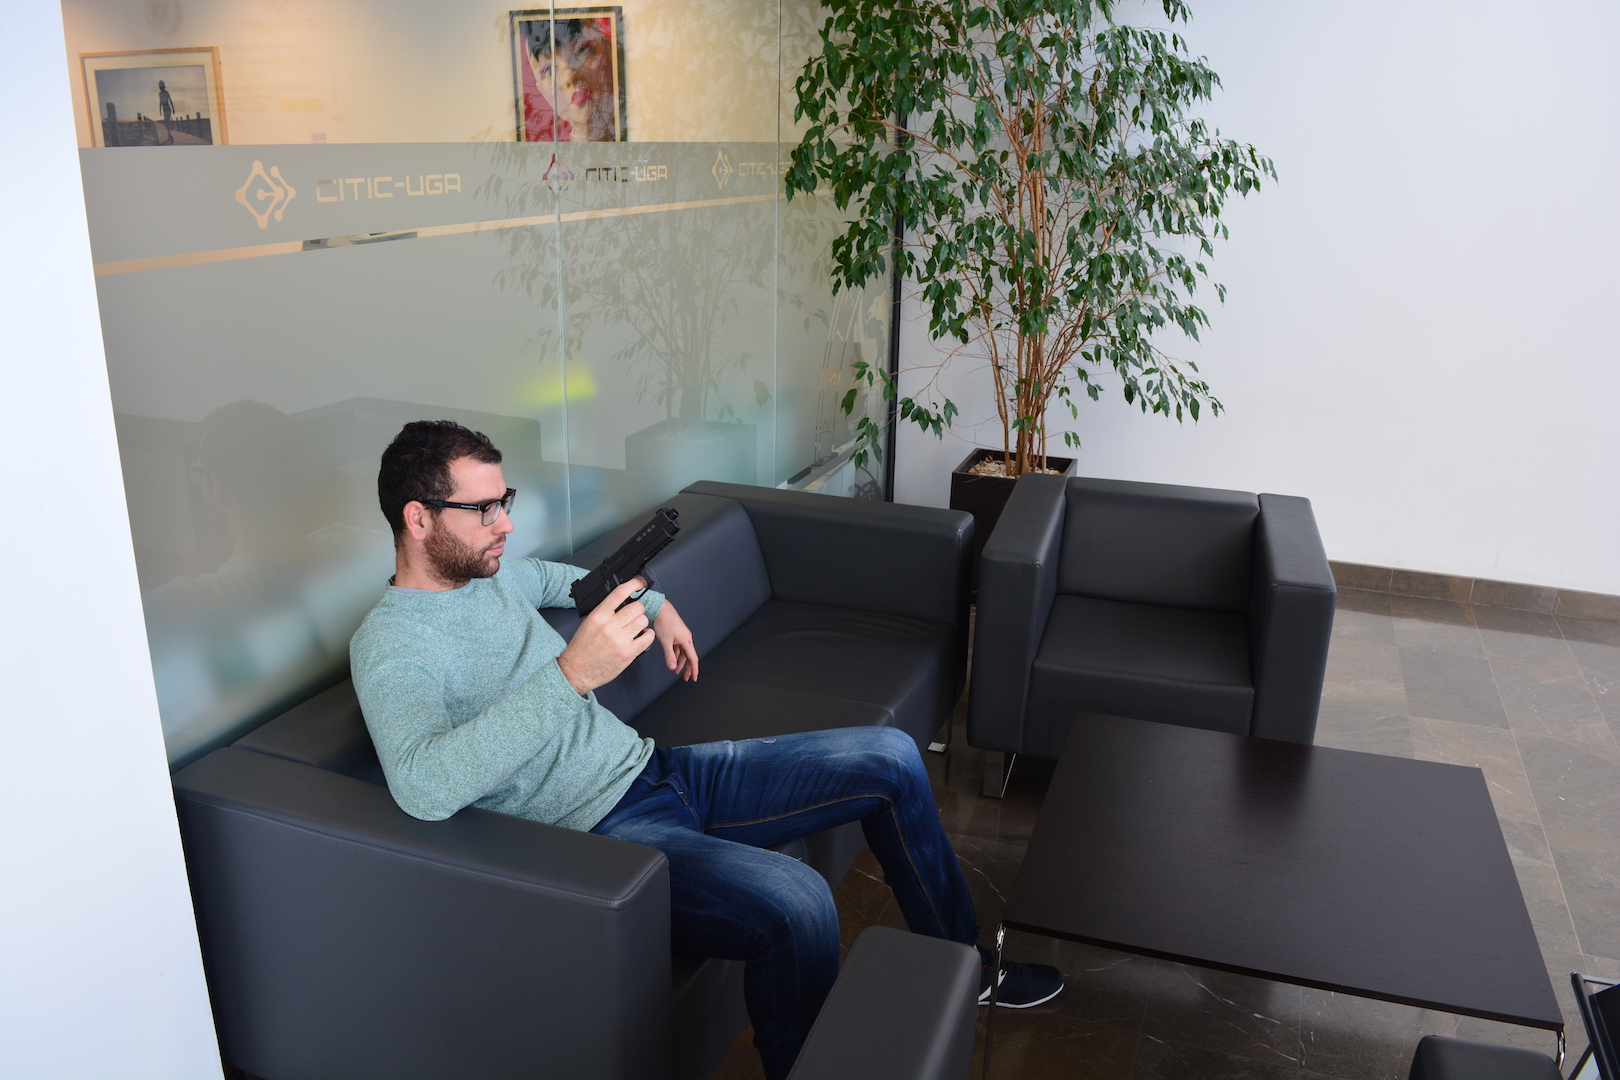pistol: (569, 506, 682, 657)
